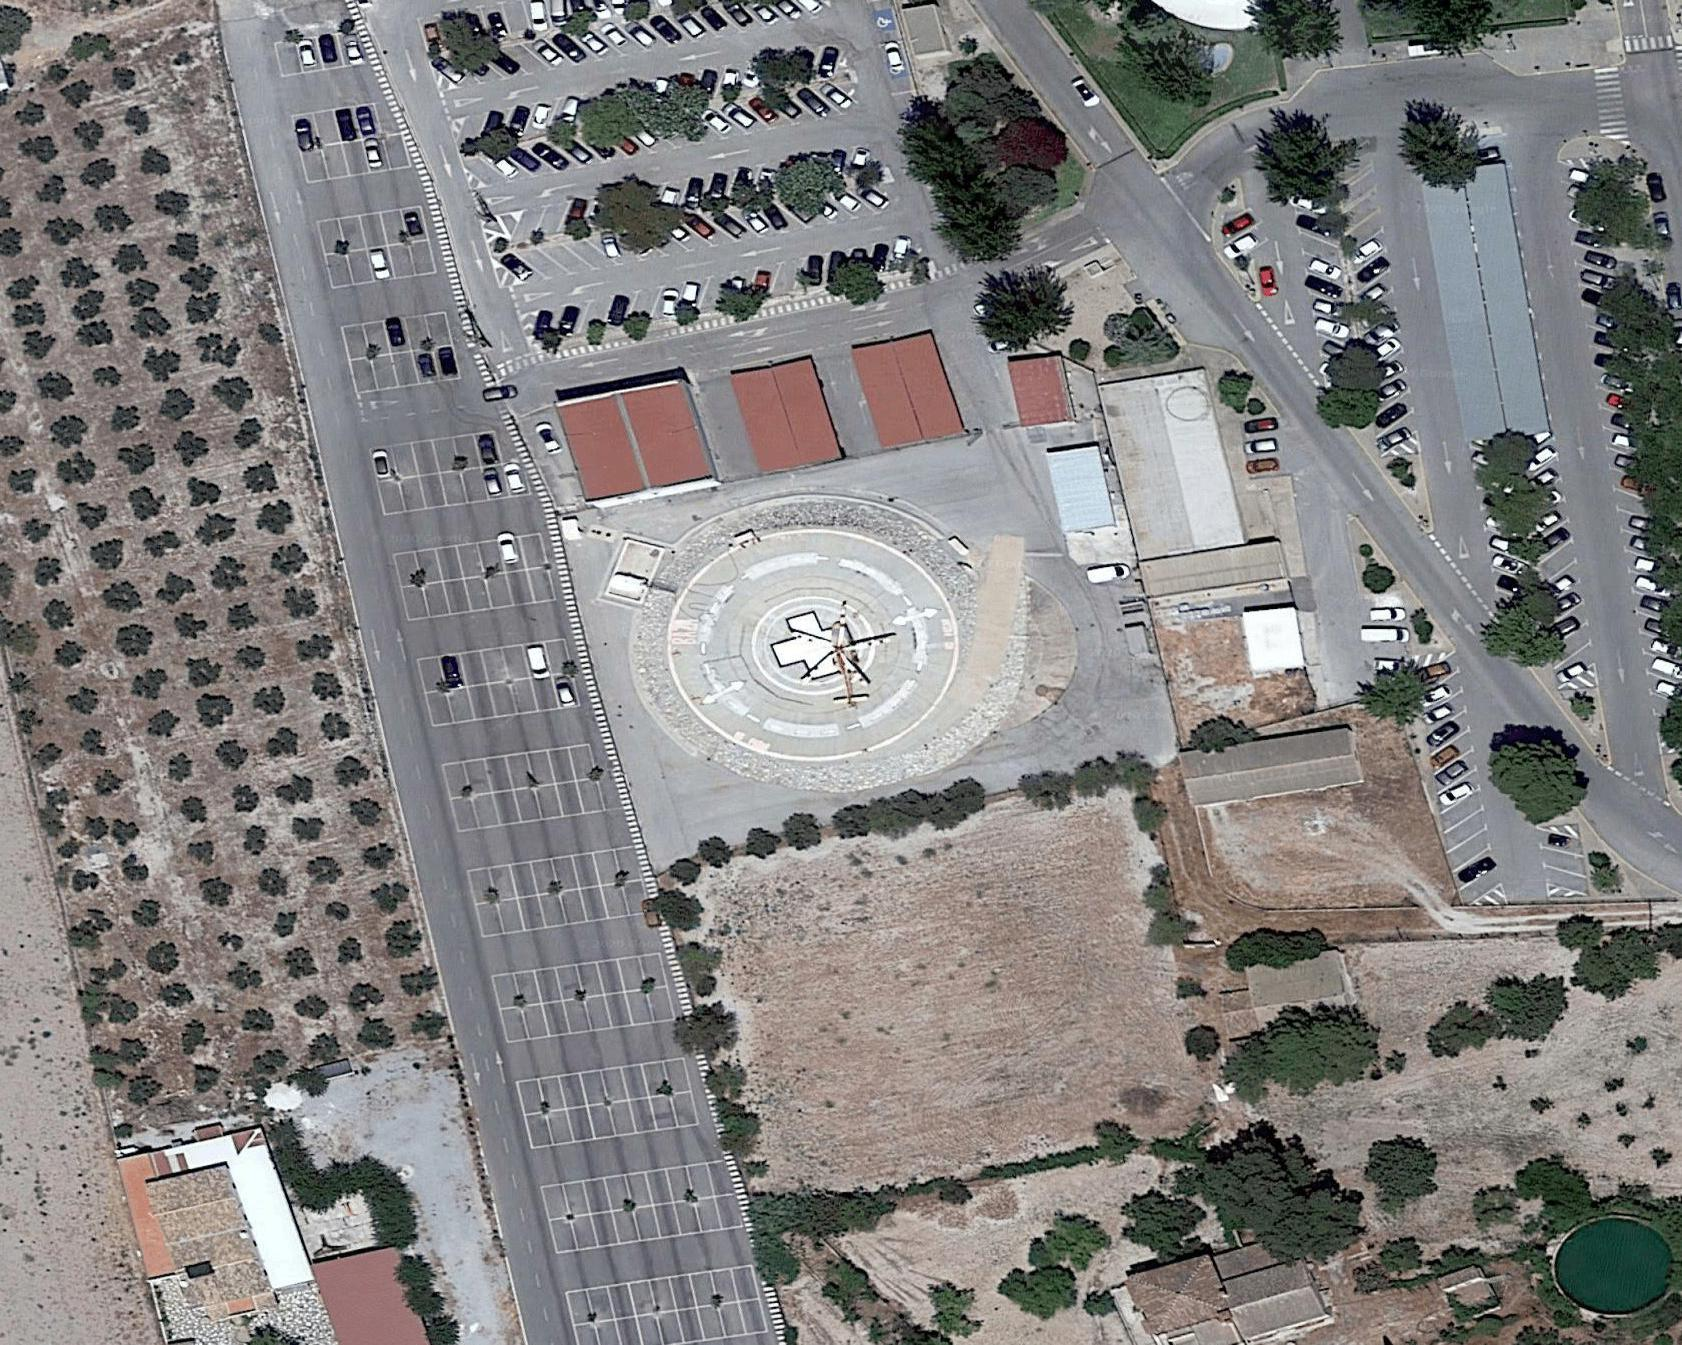helicopter: (798, 613, 890, 705)
helipad: (670, 520, 1002, 763)
small-vehicle: (525, 641, 552, 679), (294, 117, 320, 154), (475, 432, 504, 464), (381, 316, 403, 347)
